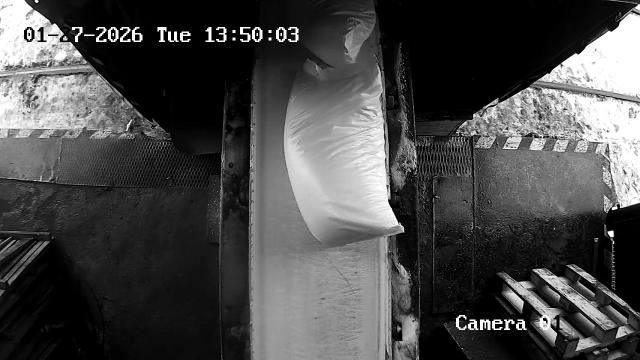bag: (280, 54, 405, 244), (293, 0, 376, 66)
